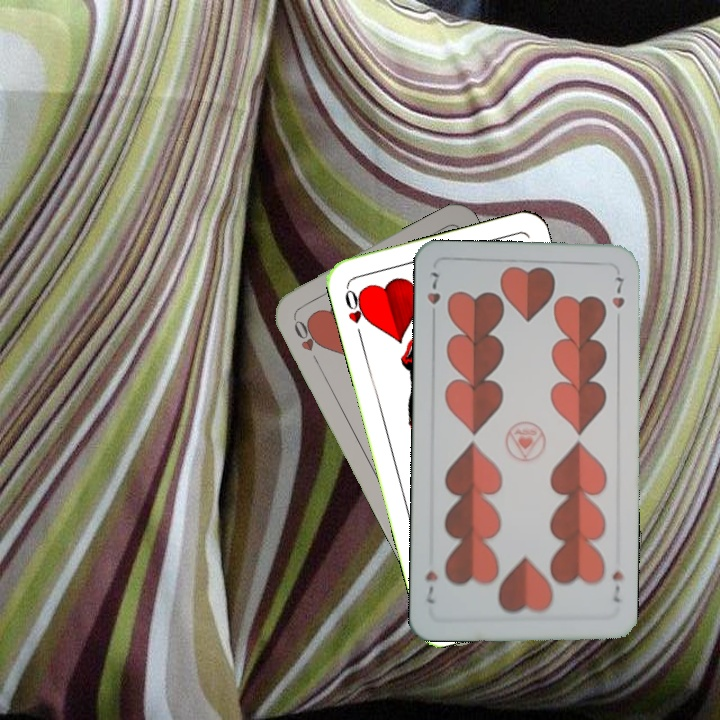H7: (423, 268, 443, 324), (608, 567, 627, 605)
HO: (288, 312, 326, 367), (340, 283, 371, 342)
